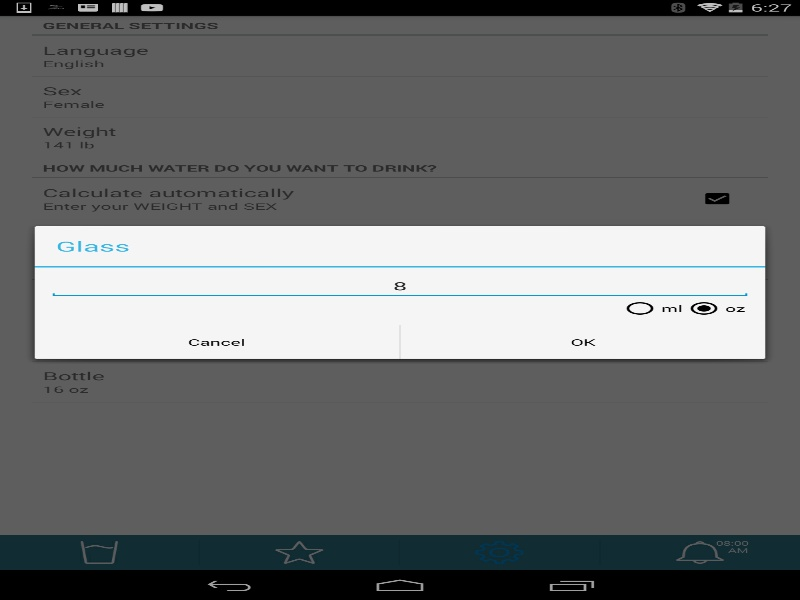Button: (34, 325, 399, 359), (400, 325, 765, 359)
Input: (48, 273, 752, 298)
